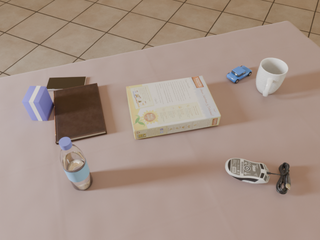book: (53, 83, 107, 145)
bottle: (59, 137, 93, 190)
box: (126, 76, 221, 139), (22, 86, 54, 121)
cup: (256, 58, 288, 97)
mouse: (225, 158, 273, 183)
phone: (46, 77, 86, 91)
toy_car: (227, 66, 252, 83)
